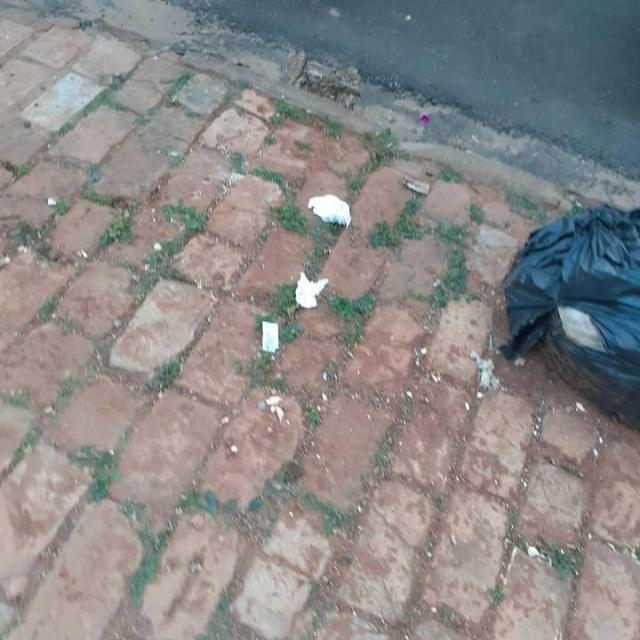litter: (261, 192, 352, 352)
